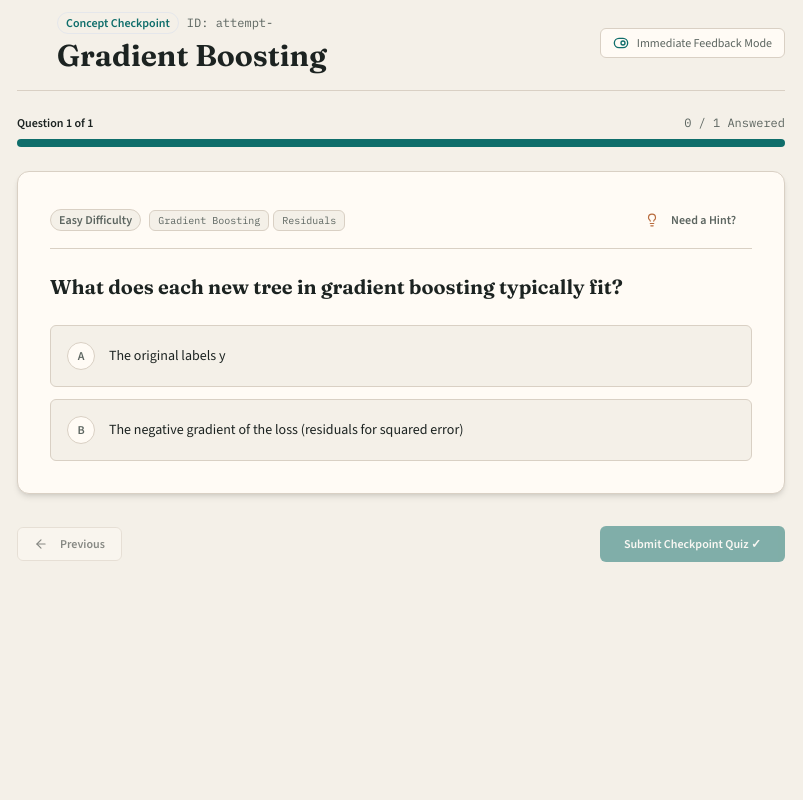
Test: QuizPage › renders questions, selects choices, toggles hint, submits and shows diagnosis
Expected: the heading "Gradient Boosting" is shown, [57,38,327,74]
Expected: the heading "What does each new tree in gradient boosting typically fit?" is shown, [50,274,623,299]
Note: Test hint toggle
Click the button "Need a Hint?".
click(691, 220)  # box [629,204,752,236]
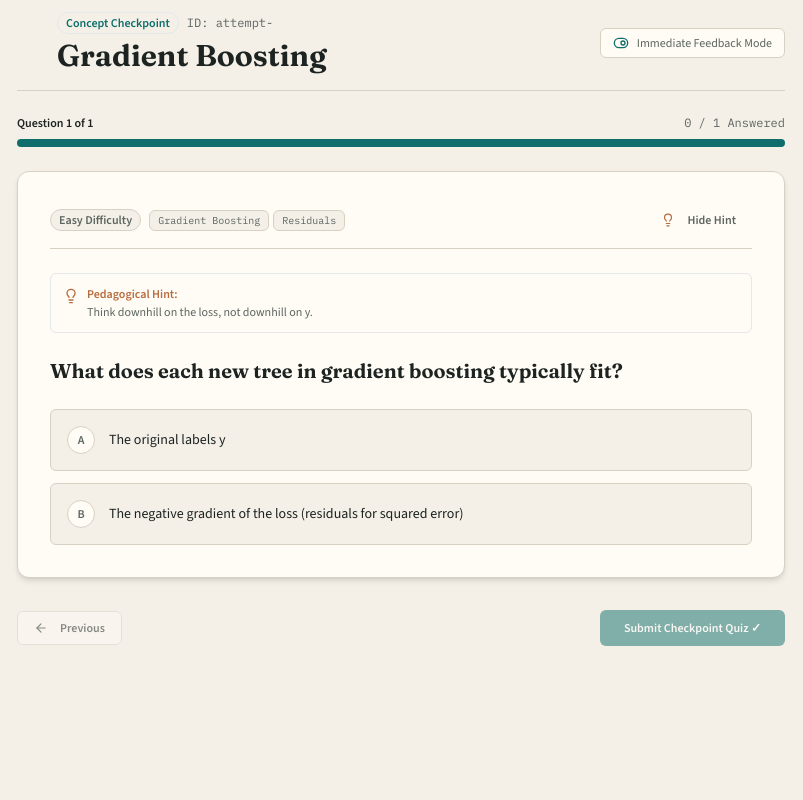
Expected: the text "Think downhill on the loss, not downhill on y." is shown, [87,304,313,320]
Note: Select choice
Click the radio button labelled "A The original labels y".
click(167, 439)  # box [50,409,752,471]
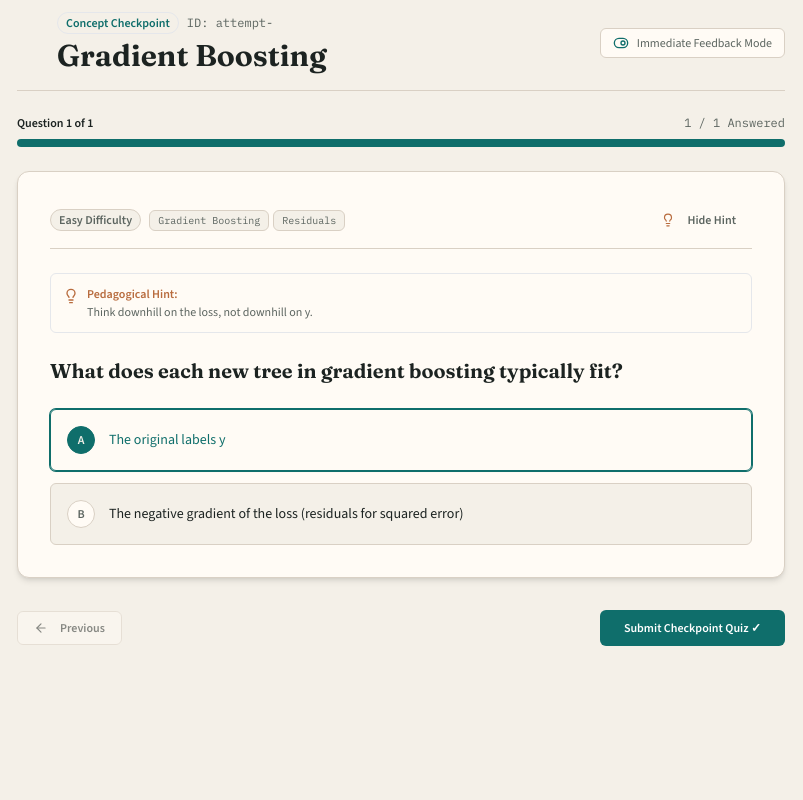
Expected: the button "Submit Checkpoint Quiz ✓" is enabled
Click the button "Submit Checkpoint Quiz ✓".
click(692, 628)  # box [600,610,785,646]
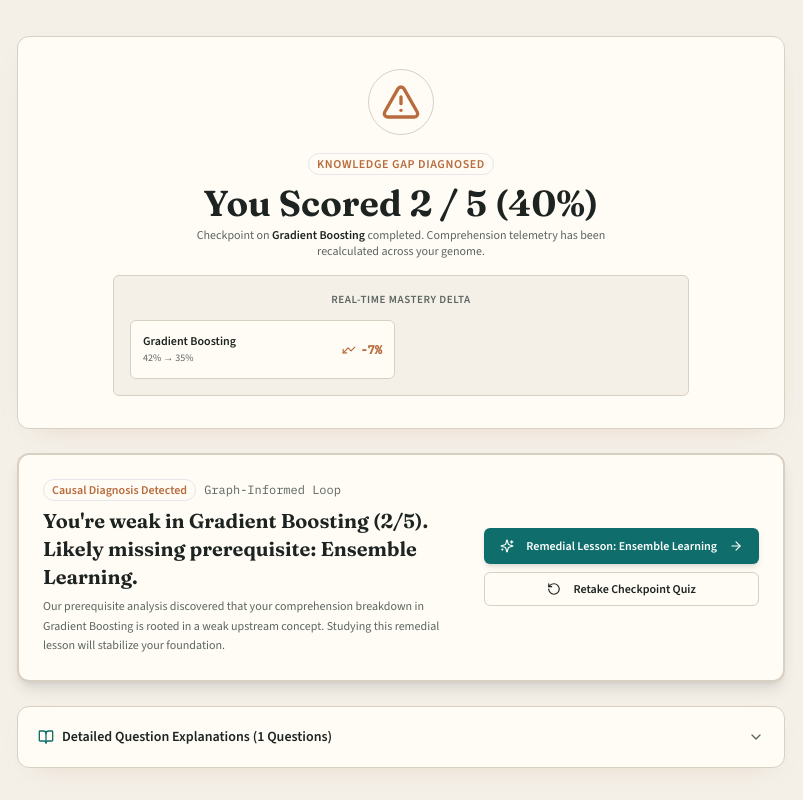
Expected: the heading "You Scored 2 / 5 (40%)" is shown, [204,181,598,225]
Expected: the heading "Likely missing prerequisite: Ensemble Learning" is shown, [43,508,428,589]
Expected: the button "Remedial Lesson: Ensemble Learning" is shown, [484,528,759,564]
